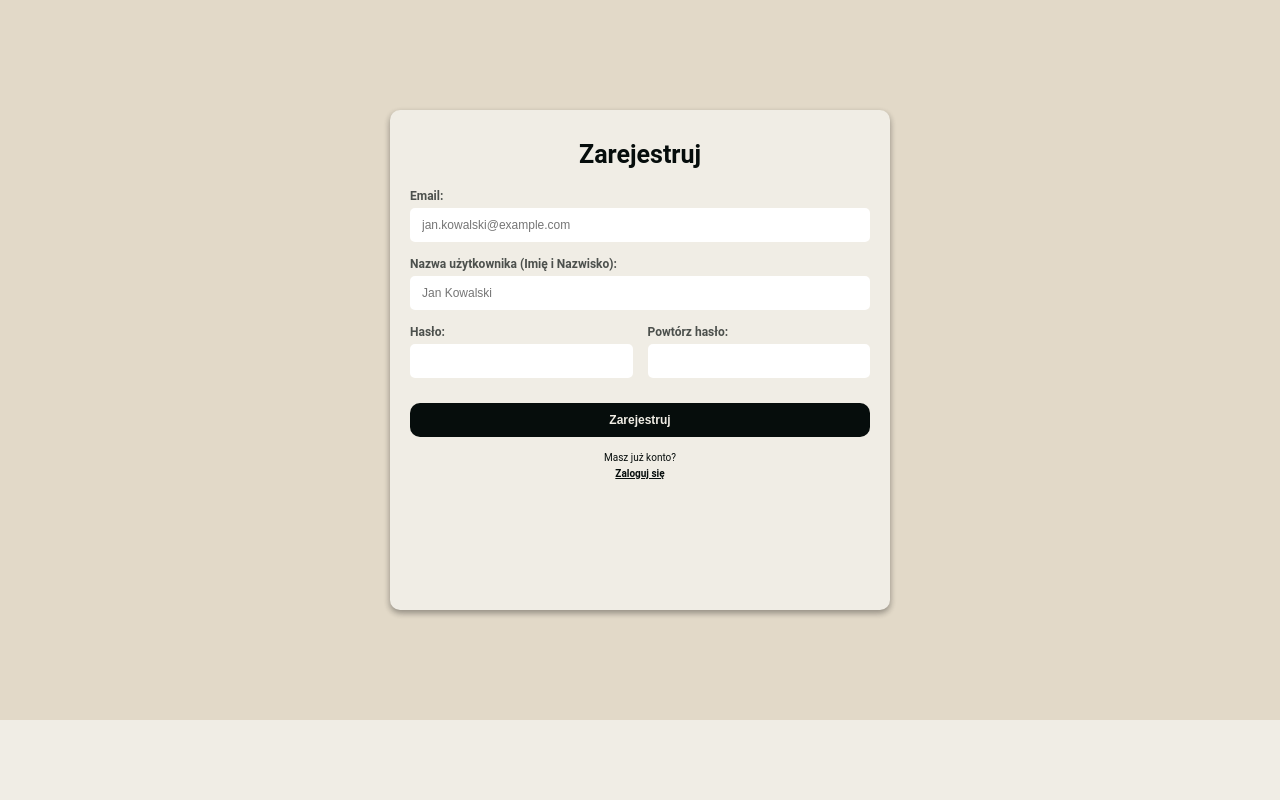
Test: Register › stan ładowania › wyświetla Rejestrowanie... podczas wysyłania
Type "haslo123" into the password field labelled "Hasło:" at (521, 361), box [410,344,632,378]
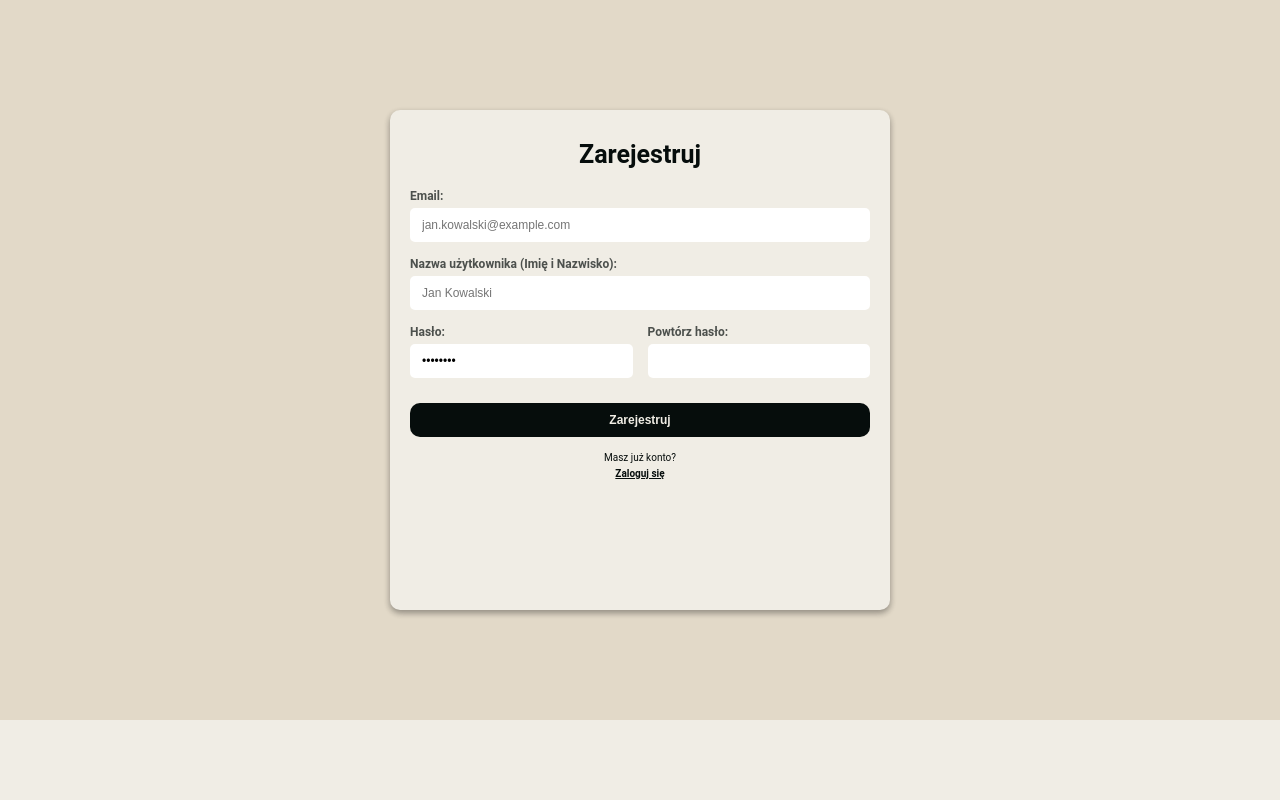
Type "haslo123" into the password field labelled "Powtórz hasło:" at (759, 361), box [648,344,870,378]
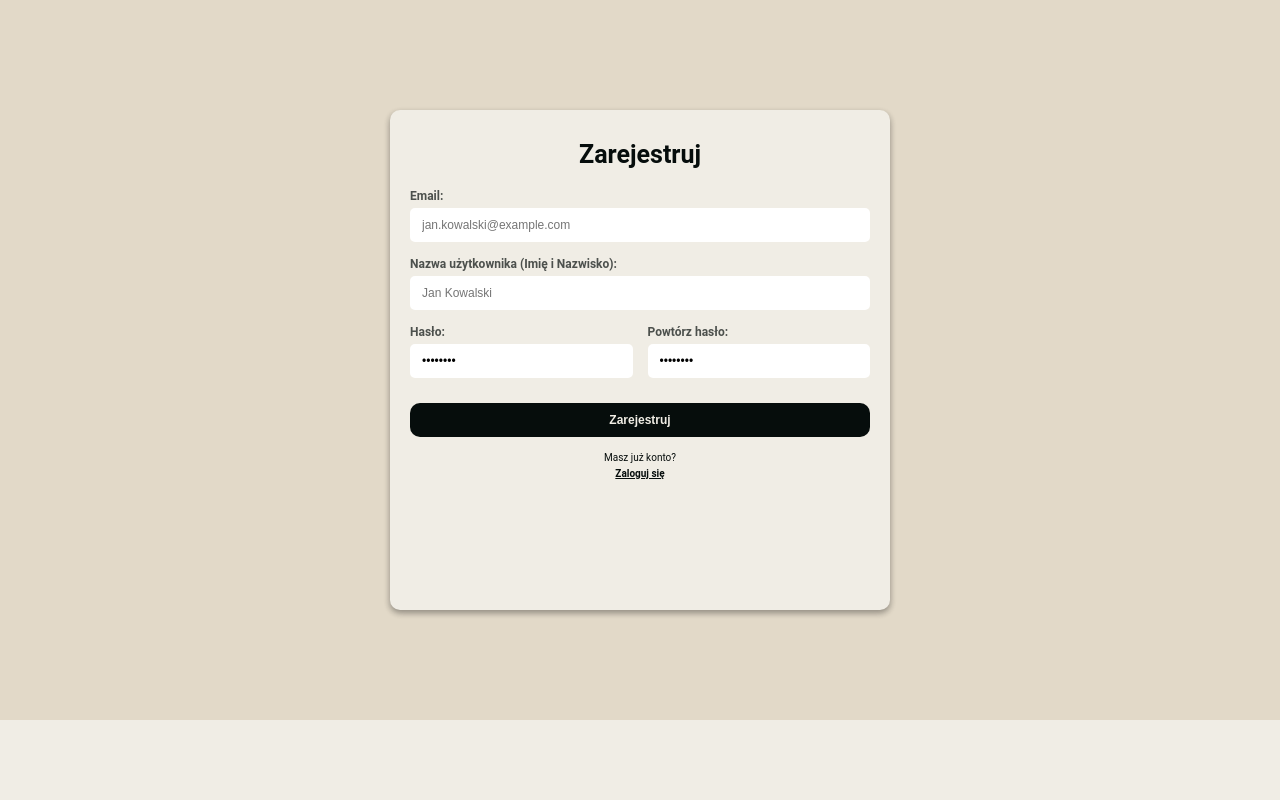
Submit the form, box [410,140,870,479]
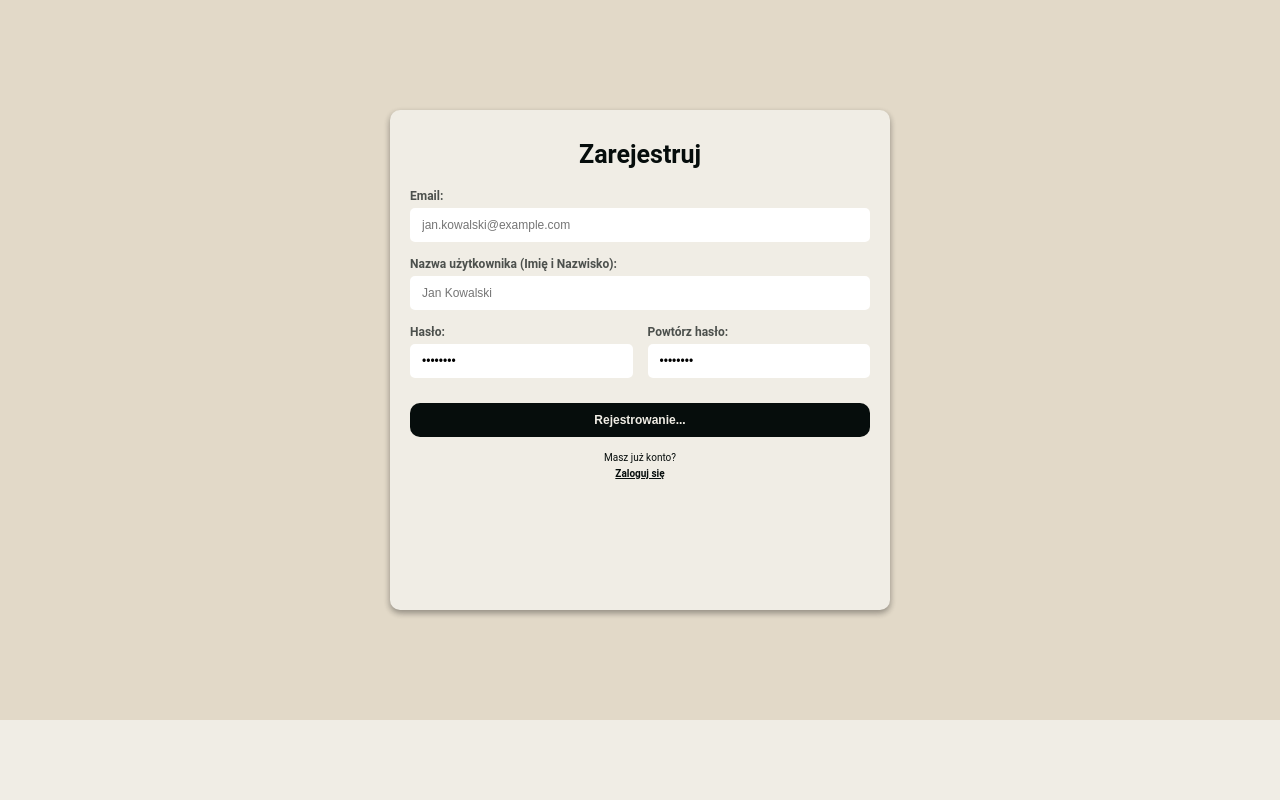
Now the button reads "Rejestrowanie...", box [410,403,870,437]
Now the button is disabled, box [410,403,870,437]
